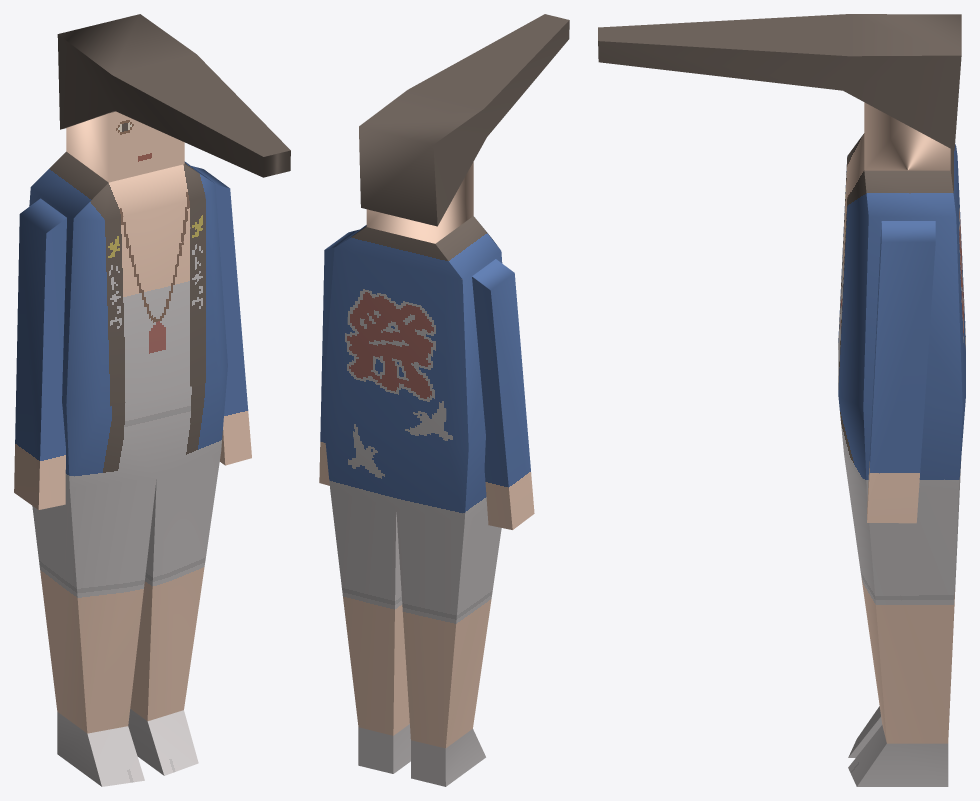
The model's file is 0246_Matsuri_Boy.glb.
3 views of the same model, side by side, from view 1: azimuth 30°, elevation 25°; view 2: azimuth 150°, elevation 25°; view 3: azimuth 270°, elevation 25° (orthographic). The views are drawn at different scales.
Visible parts, largest first — view 1: part_0; view 2: part_0; view 3: part_0.
Part boxes in pixels (left/top/right/bottom): part_0: left=14, top=14, right=290, bottom=786; part_0: left=319, top=14, right=569, bottom=786; part_0: left=598, top=14, right=965, bottom=786.
Bounding box in the file's own units: 0.5362 × 1.71 × 0.7832.
1 material, 1 textured.
